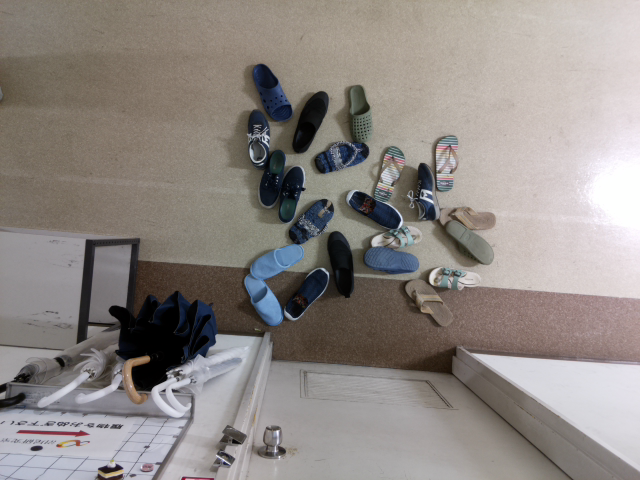Copy of Copy of Copy of Copy of Copy of Copy of Copy of Copy of Copy of Copy of: (289, 198, 334, 244), (313, 140, 369, 174), (373, 146, 406, 203)
Copy of Copy of Copy of Copy of Copy of Copy of Copy of Copy of Copy of slipper: (434, 135, 460, 191)
Copy of Copy of Copy of Copy of Copy of Copy of Copy of Copy of slipper: (439, 205, 495, 231)
Copy of Copy of Copy of Copy of Copy of Copy of Copy of shoe: (406, 162, 441, 221)
Copy of Copy of Copy of Copy of Copy of Copy of Copy of slipper: (404, 278, 454, 327)
Copy of Copy of Copy of Copy of Copy of Copy of shoe: (346, 188, 403, 231)
Copy of Copy of Copy of Copy of Copy of Copy of slipper: (427, 265, 482, 290)
Copy of Copy of Copy of Copy of Copy of shoe: (284, 267, 330, 321)
Copy of Copy of Copy of Copy of Copy of slipper: (443, 219, 494, 265)
Copy of Copy of Copy of Copy of shoe: (327, 230, 354, 298)
Copy of Copy of Copy of Copy of slipper: (362, 246, 419, 274)
Copy of Copy of Copy of shoe: (291, 90, 329, 154)
Copy of Copy of Copy of slipper: (242, 272, 284, 326)
Copy of Copy of shoe: (276, 164, 306, 224)
Copy of Copy of slipper: (249, 242, 303, 280)
Copy of shoe: (246, 108, 270, 167)
Copy of slipper: (348, 84, 375, 142)
sandal: (370, 226, 422, 250)
shoe: (258, 149, 286, 208)
slipper: (252, 63, 293, 122)
